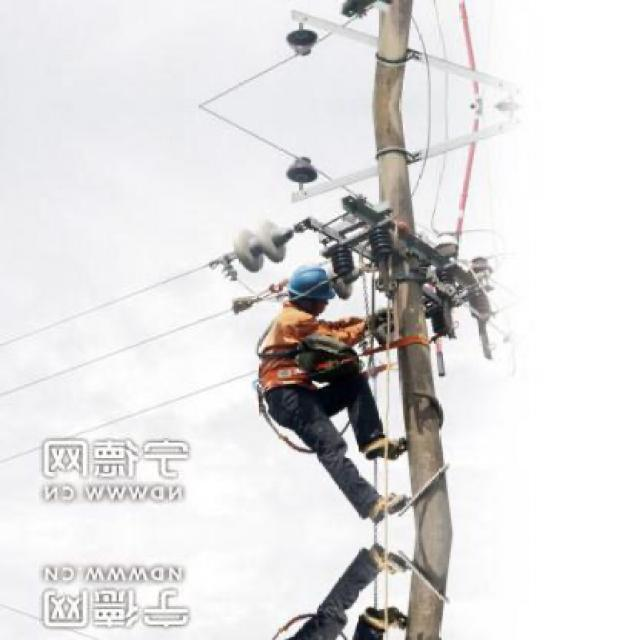helmet: (283, 256, 337, 315)
